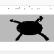not correct: (7, 15, 53, 42)
